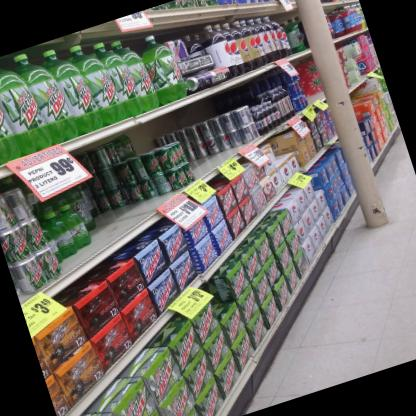empty_space: (89, 200, 155, 236), (152, 106, 204, 134), (191, 147, 238, 176), (63, 254, 83, 268)
